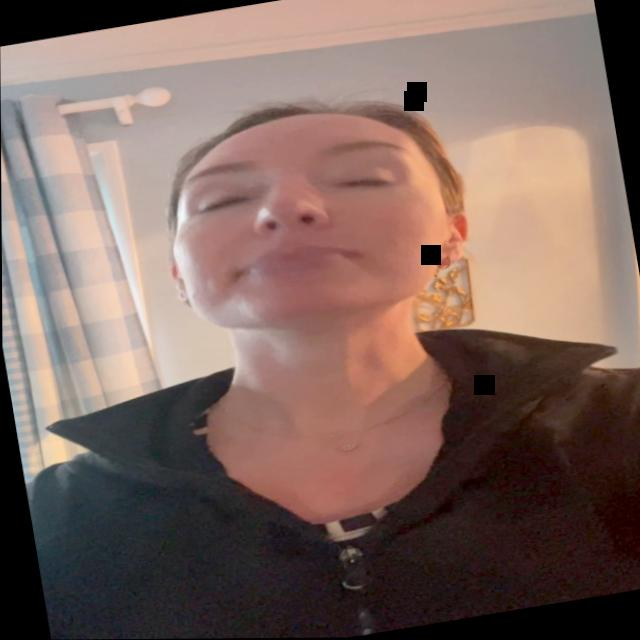NO-Mask: (147, 82, 486, 376)
